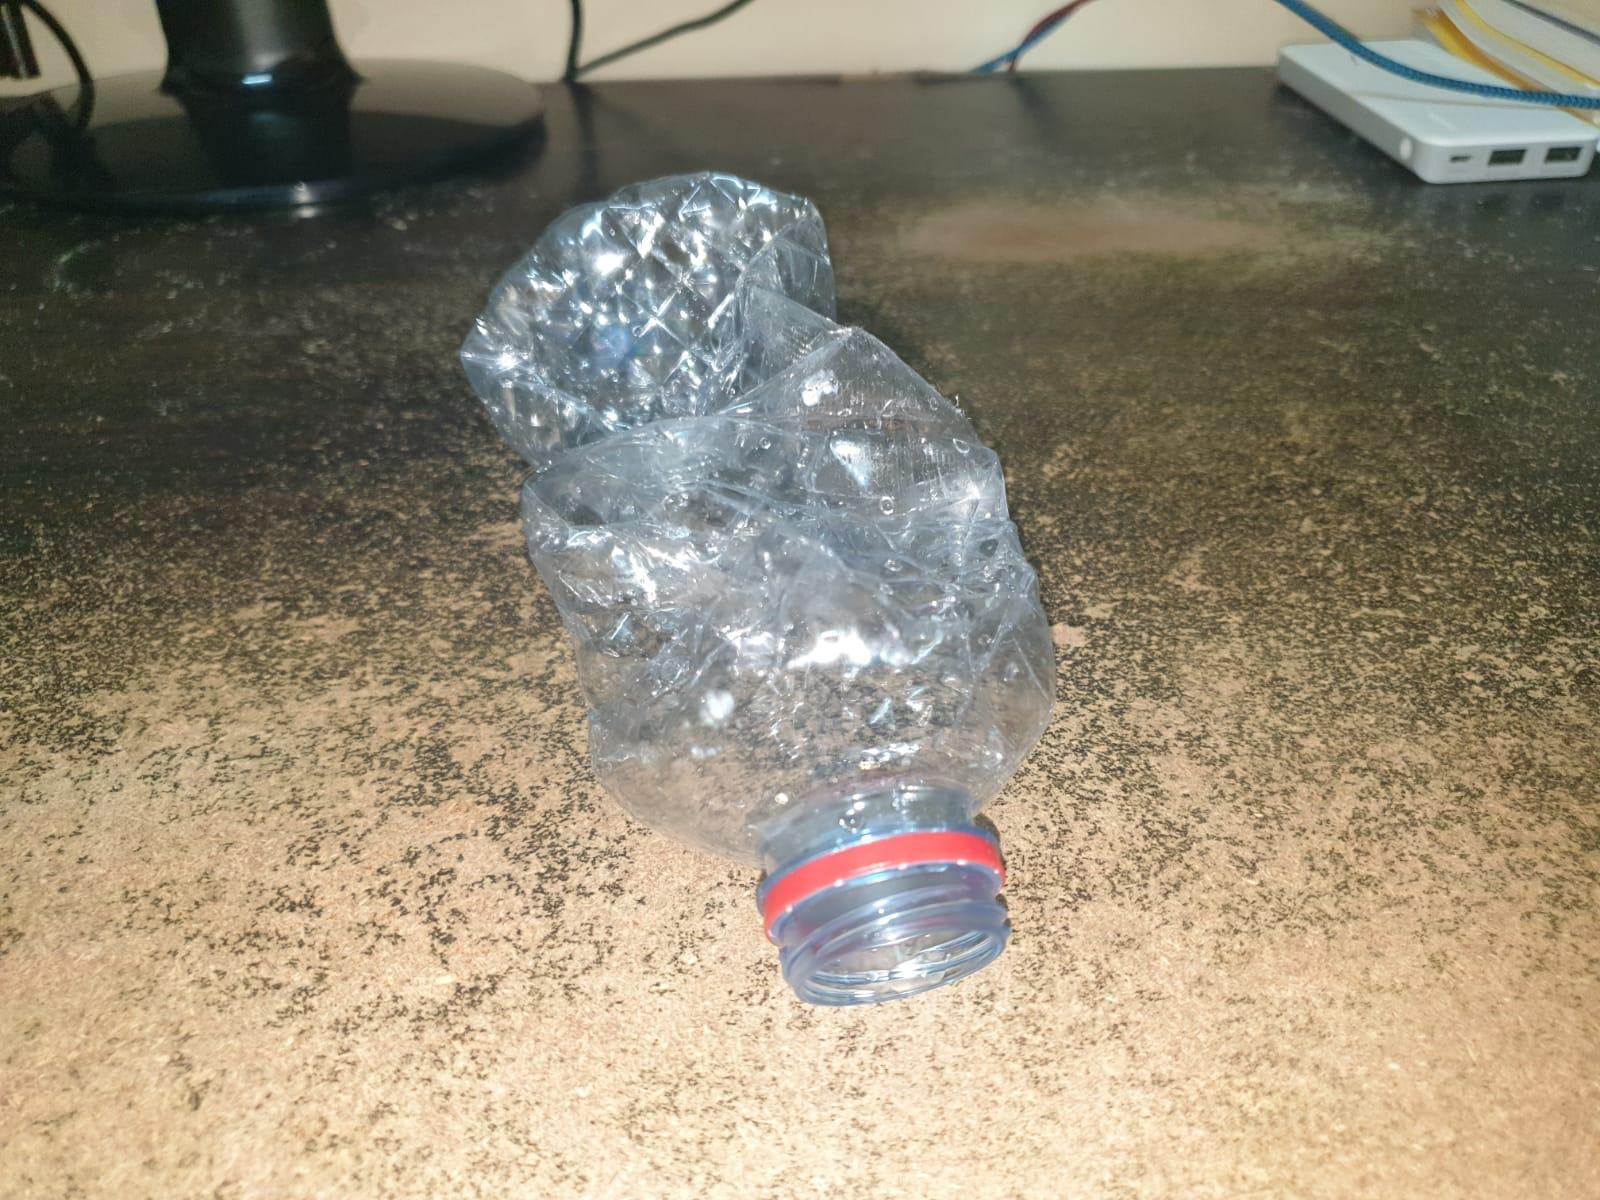bottle: (464, 176, 1068, 1018)
